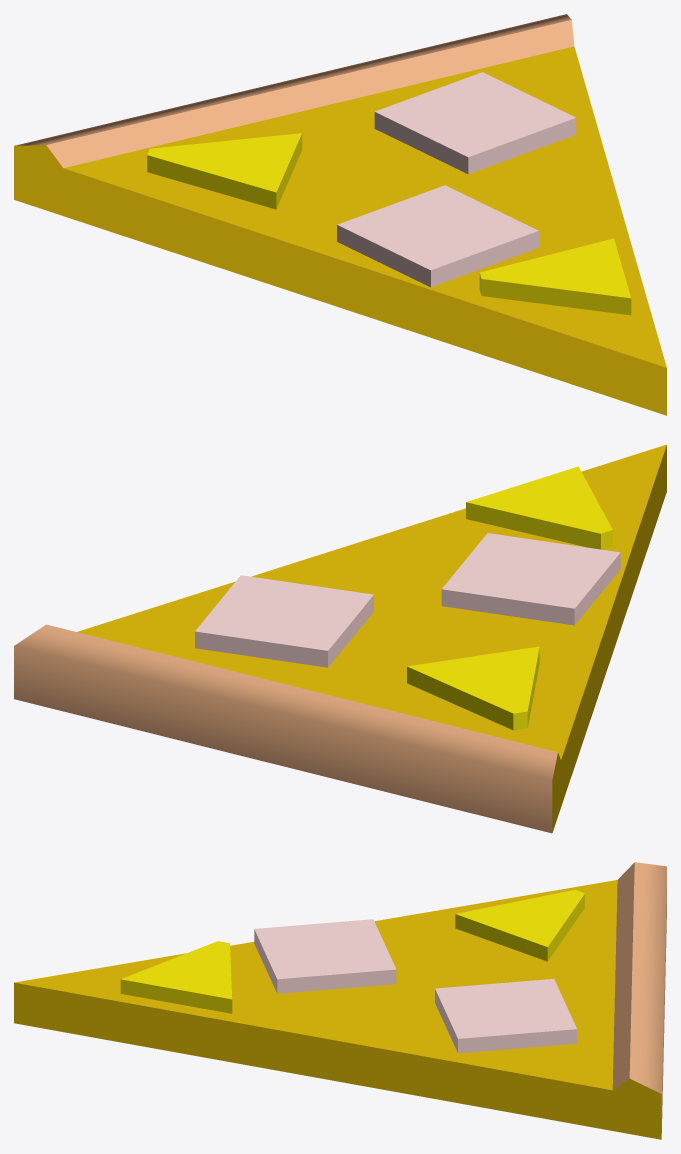
The model's file is Heretic Pizza Slice 1.fbx.
3 renders of one model, top to bottom at view 1: azimuth 30°, elevation 25°; view 2: azimuth 150°, elevation 25°; view 3: azimuth 270°, elevation 25°, orthographic. The views are drawn at different scales.
Parts seen in each view (by area): view 1: polySurface17; view 2: polySurface17; view 3: polySurface17.
Part boxes in pixels (bbox=[...]): polySurface17: bbox=[14, 14, 666, 415]; polySurface17: bbox=[14, 444, 666, 833]; polySurface17: bbox=[14, 862, 666, 1139].
Bounding box in the file's own units: 4.44 × 0.5042 × 5.38.
